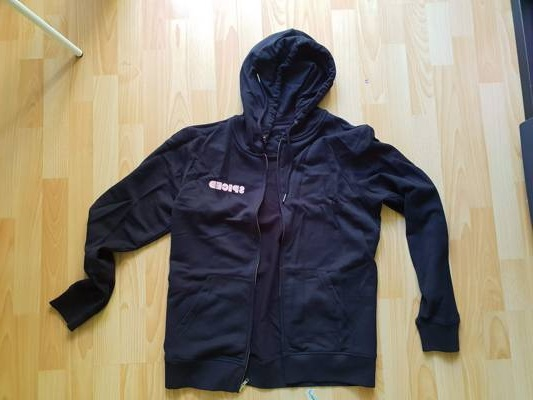Hoodie: (36, 29, 477, 384)
